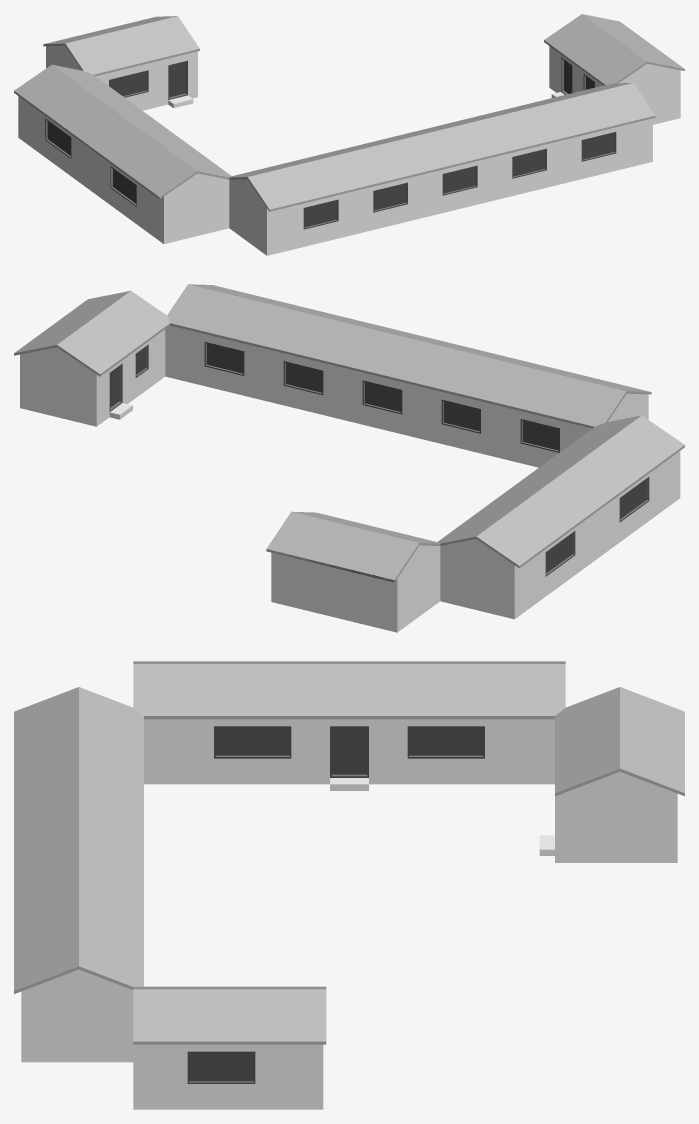
Rendered from chalets.gltf.
3 views of the same model, one above another, from view 1: azimuth 30°, elevation 25°; view 2: azimuth 150°, elevation 25°; view 3: azimuth 270°, elevation 25° (orthographic). The views are drawn at different scales.
Visible parts, largest first — view 1: chalets; view 2: chalets; view 3: chalets.
Boxes of the visible parts, box(x1,y1,x2,y2) form: chalets: box(14, 14, 684, 255); chalets: box(14, 284, 684, 632); chalets: box(14, 661, 684, 1109).
Bounding box in the file's own units: 86.99 × 10.24 × 64.85.
1 material, 1 textured.
